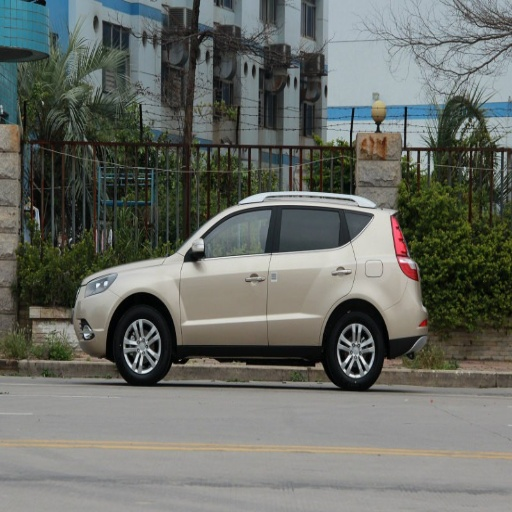back_left_door: (267, 203, 355, 345)
front_left_door: (180, 203, 275, 341)
